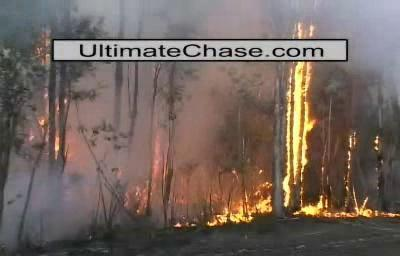fire: (276, 61, 321, 215), (324, 130, 396, 218), (112, 127, 179, 215), (190, 165, 272, 224), (39, 112, 71, 154), (41, 28, 51, 69)
